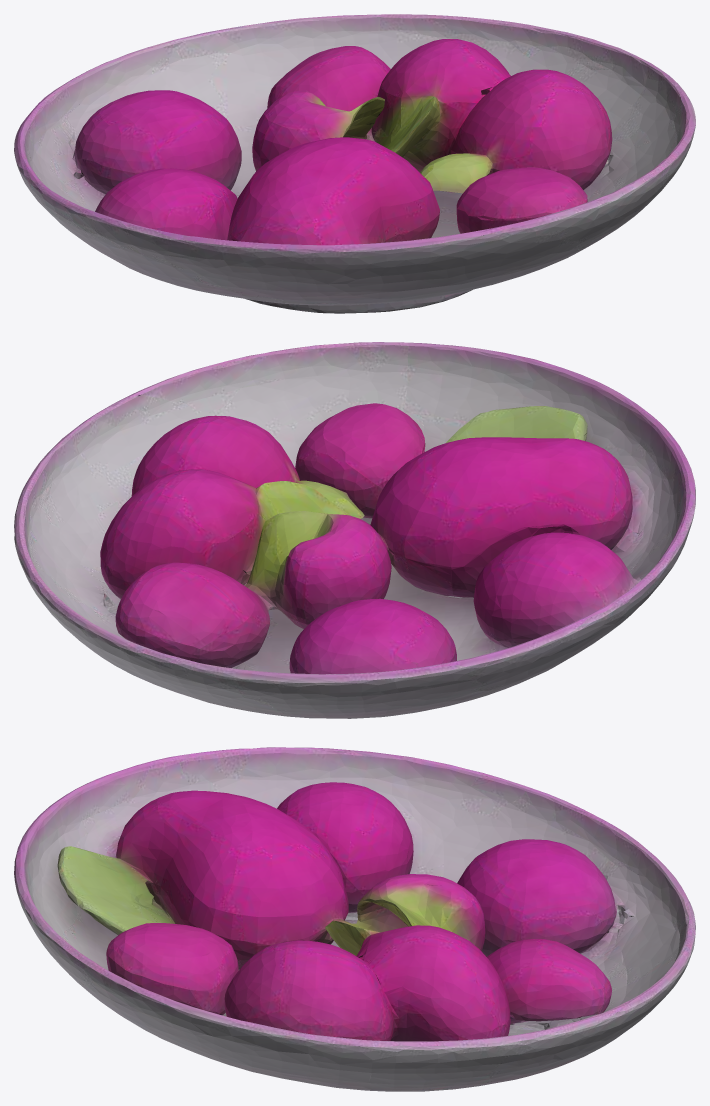
The model's file is bowls_on_small_wooden_table_000.glb.
3 views of the same model, one above another, from view 1: azimuth 30°, elevation 25°; view 2: azimuth 150°, elevation 25°; view 3: azimuth 270°, elevation 25° (orthographic).
Parts seen in each view (by area): view 1: bowls_on_small_wooden_table_000.obj; view 2: bowls_on_small_wooden_table_000.obj; view 3: bowls_on_small_wooden_table_000.obj.
Boxes of the visible parts, left/top/right/bottom form: bowls_on_small_wooden_table_000.obj: left=14, top=14, right=695, bottom=313; bowls_on_small_wooden_table_000.obj: left=14, top=342, right=695, bottom=718; bowls_on_small_wooden_table_000.obj: left=14, top=747, right=695, bottom=1091.
Size of the model in its own units: 0.1155 by 0.0347 by 0.1149.
Materials: 1 (1 with a texture image).
